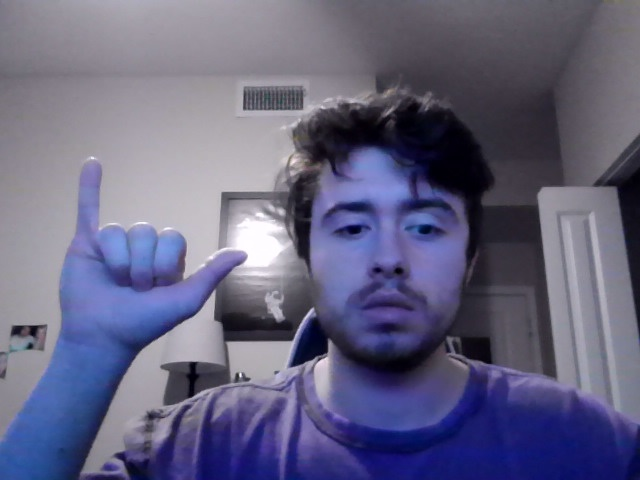y: (57, 157, 249, 370)
